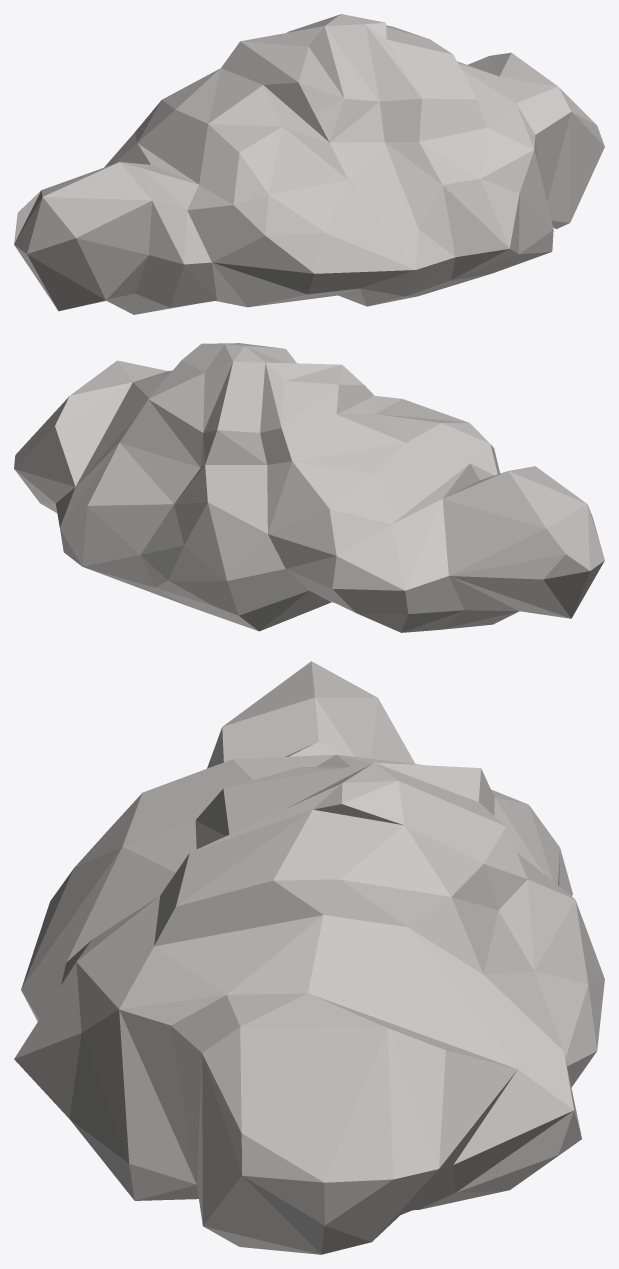
The model's file is SM_Env_Cloud_05.gltf.
The picture shows the model from 3 angles, top to bottom: view 1: azimuth 30°, elevation 25°; view 2: azimuth 150°, elevation 25°; view 3: azimuth 270°, elevation 25°; orthographic projection. The views are drawn at different scales.
Parts seen in each view (by area): view 1: SM_Env_Cloud_05; view 2: SM_Env_Cloud_05; view 3: SM_Env_Cloud_05.
Boxes of the visible parts, <box> form: SM_Env_Cloud_05: <box>14,14,604,314</box>; SM_Env_Cloud_05: <box>14,343,604,632</box>; SM_Env_Cloud_05: <box>14,661,604,1254</box>.
Size of the model in its own units: 8.7 by 3.65 by 5.02.
Materials: 1 (1 with a texture image).
